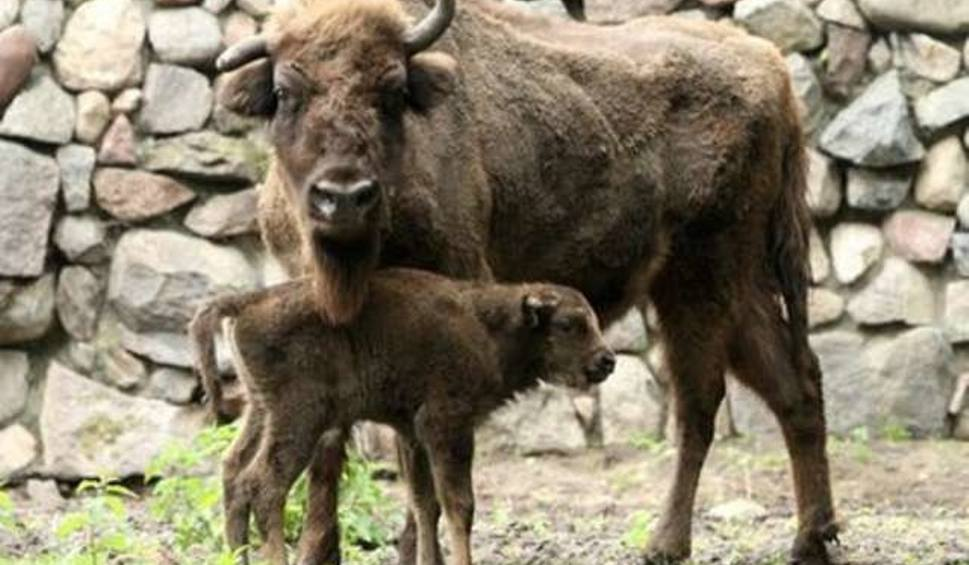zubr: (201, 3, 847, 565), (167, 251, 646, 565)
